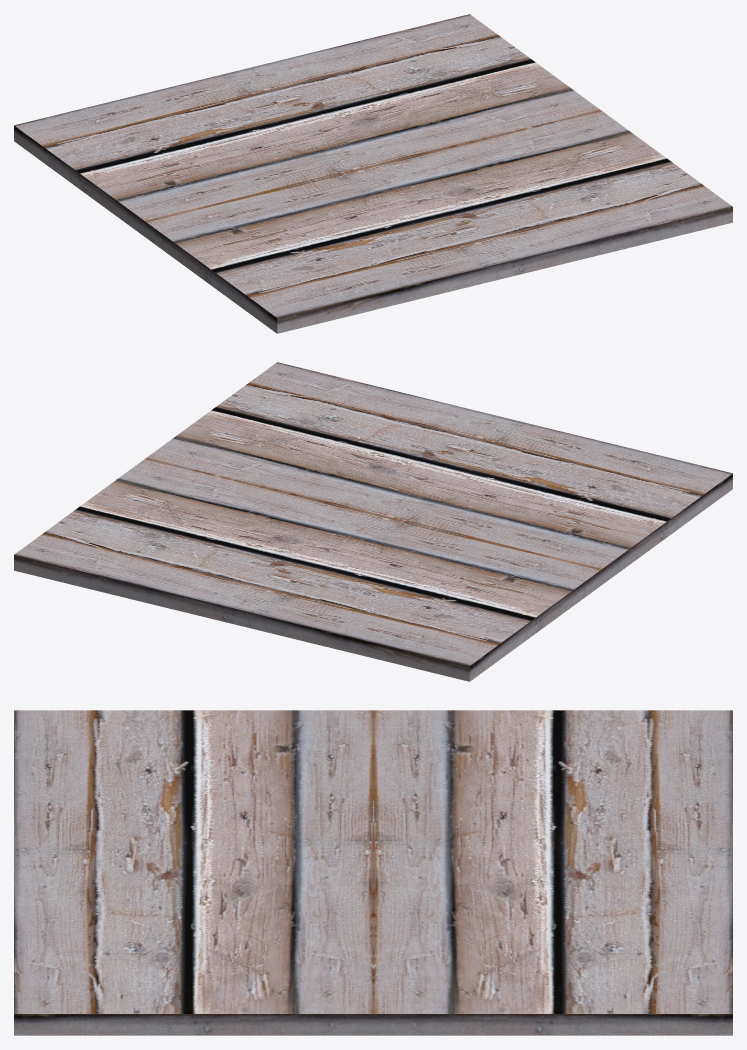
The picture shows the model from 3 angles, top to bottom: view 1: azimuth 30°, elevation 25°; view 2: azimuth 150°, elevation 25°; view 3: azimuth 270°, elevation 25°; orthographic projection. The views are drawn at different scales.
Visible parts, largest first — view 1: brid019_woodboard_0; view 2: brid019_woodboard_0; view 3: brid019_woodboard_0.
Boxes of the visible parts, left/top/right/bottom form: brid019_woodboard_0: left=14, top=14, right=732, bottom=333; brid019_woodboard_0: left=14, top=362, right=732, bottom=681; brid019_woodboard_0: left=14, top=710, right=732, bottom=1035.
Size of the model in its own units: 3 by 0.1 by 3.
Materials: 1 (1 with a texture image).
